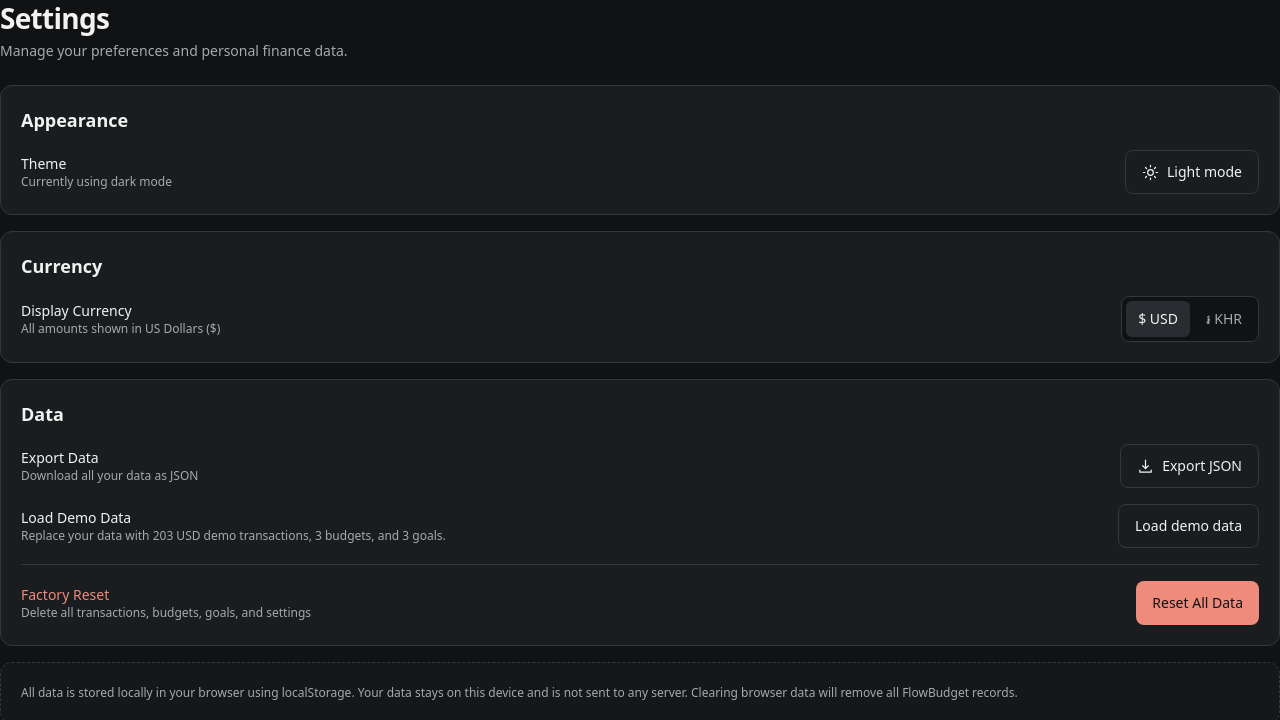
it: currency changes (WBS 1.3.6.2) › requires confirmation when only transactions exist, and cancel preserves them
The image size is (1280, 720).
Click the button "៛ KHR": point(1224, 319) left=1194, top=301, right=1254, bottom=337
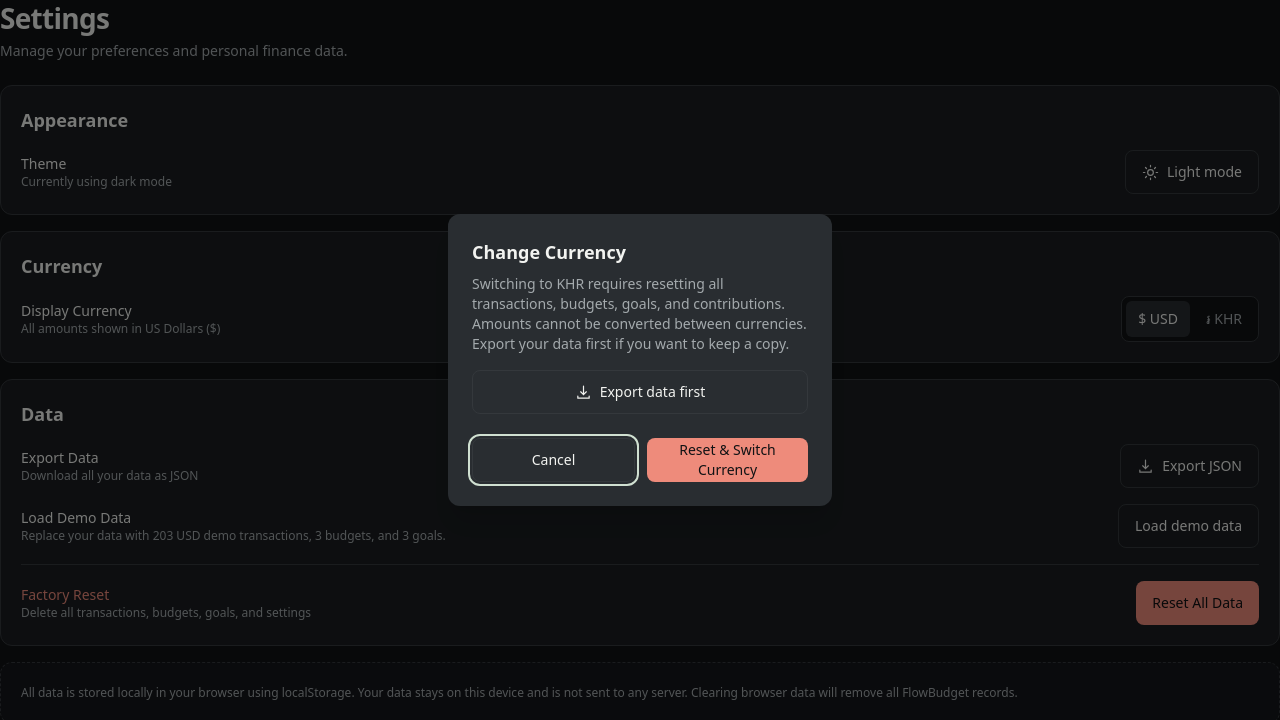
Check: the dialog is shown, box left=448, top=214, right=832, bottom=506
Check: the button "Cancel" is shown
Click the button "Cancel": point(554, 460) left=472, top=438, right=635, bottom=482
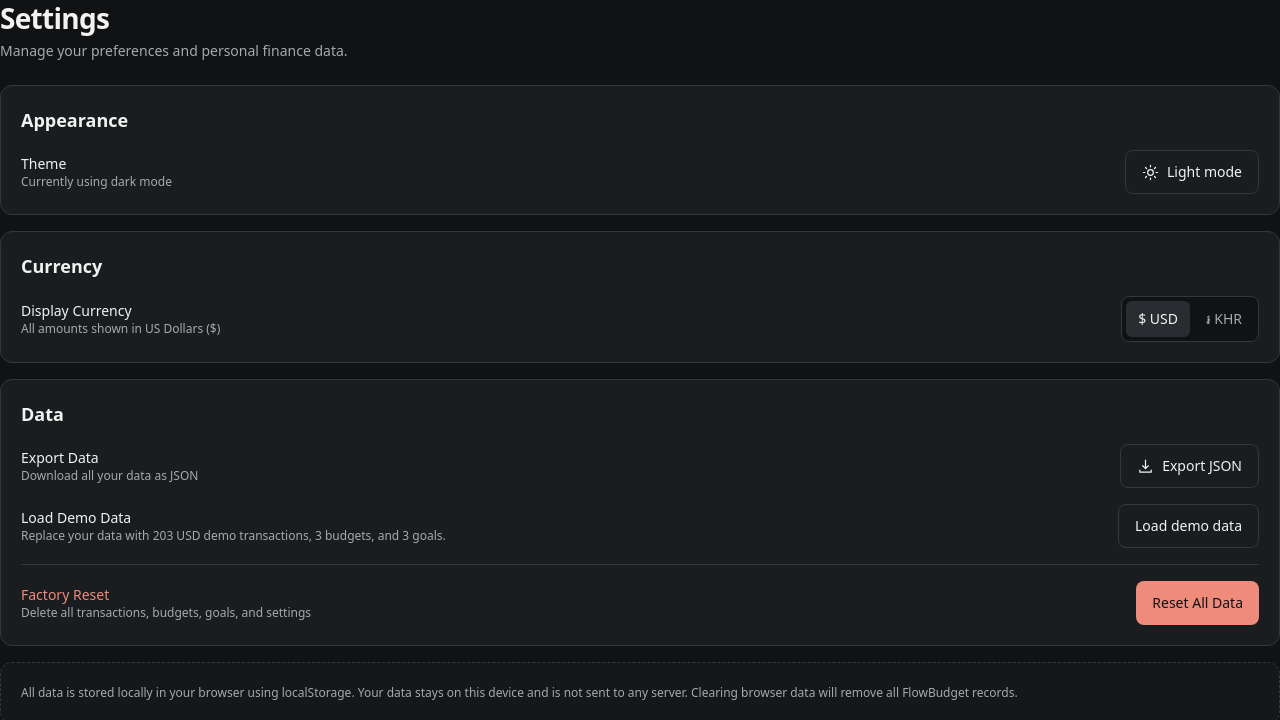
Check: the dialog is gone
